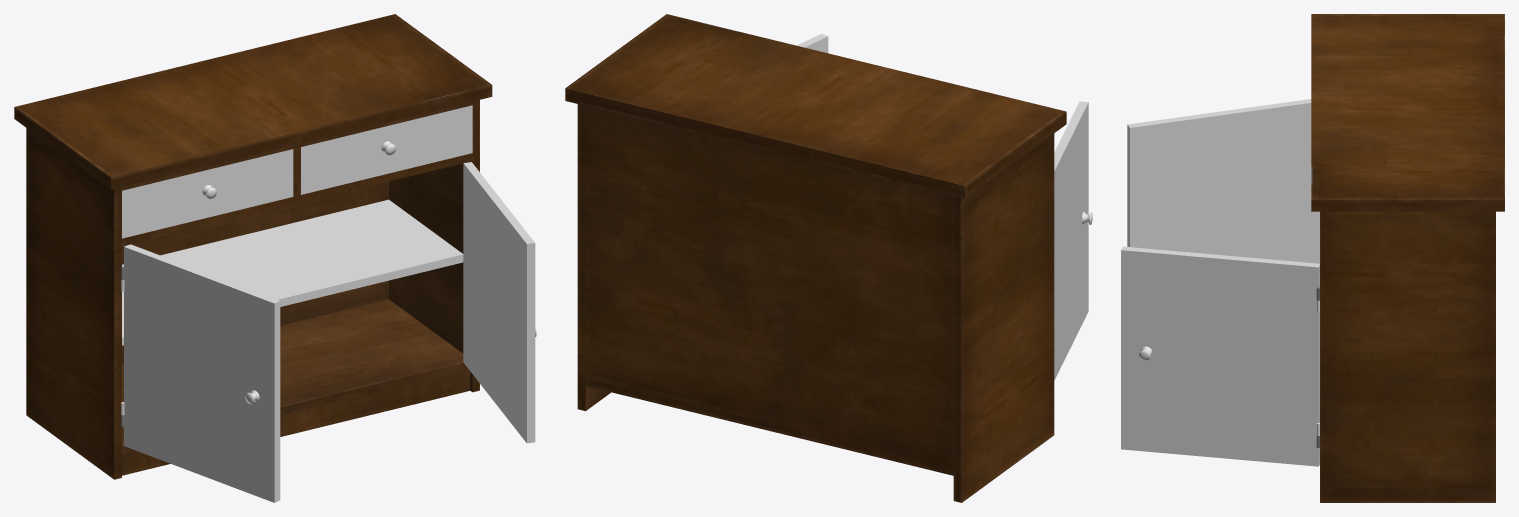
The model's file is Table.fbx.
3 views of the same model, side by side, from view 1: azimuth 30°, elevation 25°; view 2: azimuth 150°, elevation 25°; view 3: azimuth 270°, elevation 25° (orthographic). The views are drawn at different scales.
Parts seen in each view (by area): view 1: Komod, Dvierca_L, Polka, Dvierca_R, Shkafchik_R, Shkafchik_L; view 2: Komod, Dvierca_L; view 3: Komod, Dvierca_R, Dvierca_L.
Part boxes in pixels (x1=…): Komod: x1=14, y1=14, x2=492, y2=479; Dvierca_L: x1=121, y1=244, x2=280, y2=502; Polka: x1=122, y1=199, x2=463, y2=345; Dvierca_R: x1=463, y1=162, x2=535, y2=443; Shkafchik_R: x1=301, y1=105, x2=472, y2=194; Shkafchik_L: x1=122, y1=149, x2=293, y2=238; Komod: x1=565, y1=14, x2=1066, y2=502; Dvierca_L: x1=1054, y1=101, x2=1088, y2=380; Komod: x1=1311, y1=14, x2=1504, y2=502; Dvierca_R: x1=1121, y1=246, x2=1319, y2=466; Dvierca_L: x1=1127, y1=99, x2=1319, y2=263.
Size of the model in its own units: 114 by 88.1 by 99.83.
Materials: 5 (1 with a texture image).
